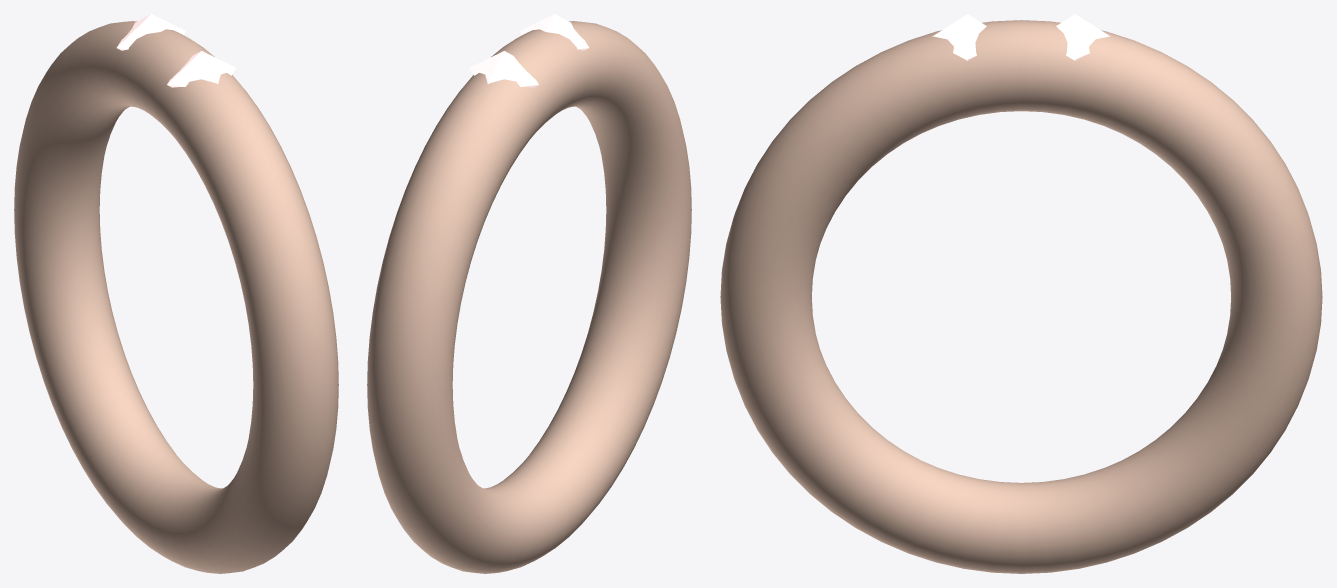
3 renders of one model, left to right at view 1: azimuth 30°, elevation 25°; view 2: azimuth 150°, elevation 25°; view 3: azimuth 270°, elevation 25°, orthographic. The views are drawn at different scales.
Parts seen in each view (by area): view 1: part (×3); view 2: part (×3); view 3: part (×3).
Boxes of the visible parts, x1,y1,x2,y2 form: part (×3): (14, 14, 338, 573); part (×3): (367, 14, 691, 573); part (×3): (720, 14, 1322, 573).
Size of the model in its own units: 0.068 by 0.4564 by 0.448.
